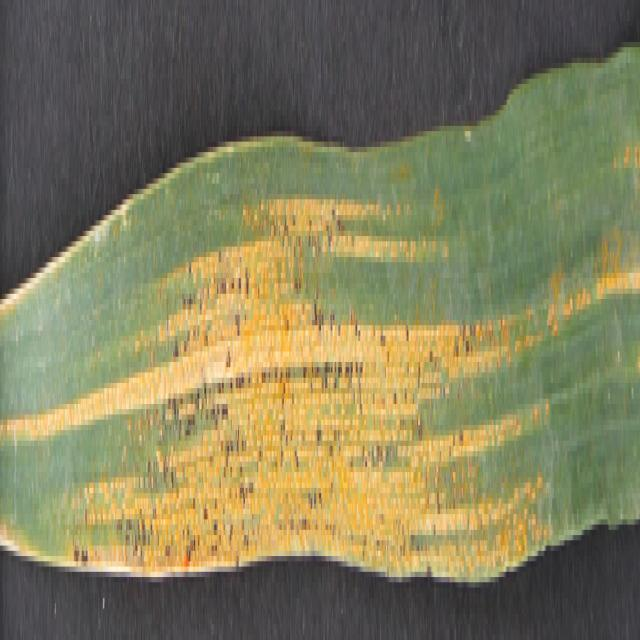leaf rust: (9, 162, 639, 588)
